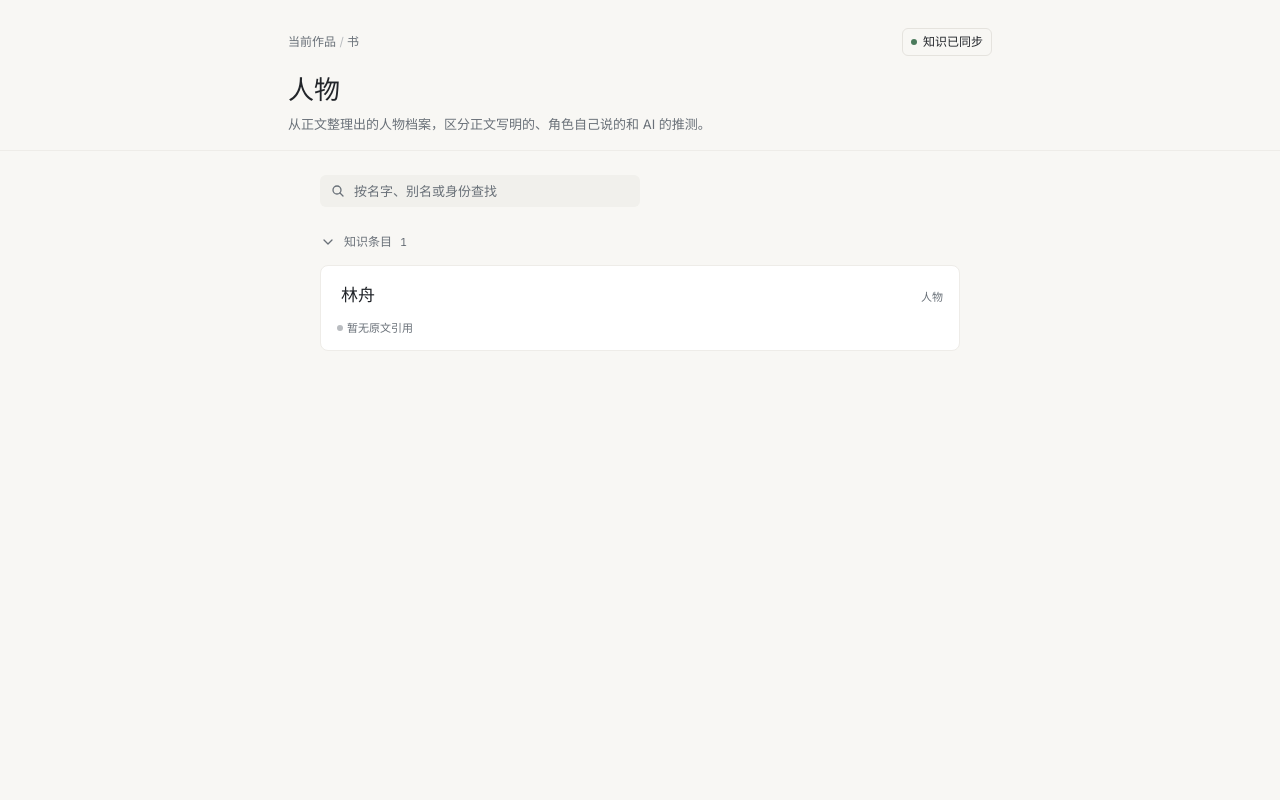
Test: private AI memory › retries a failed entity detail request
The image size is (1280, 800).
Expected: the heading "林舟" is shown, [341,283,375,309]
Click the button with aria-label "打开林舟详情": (358, 296) [329,280,387,312]
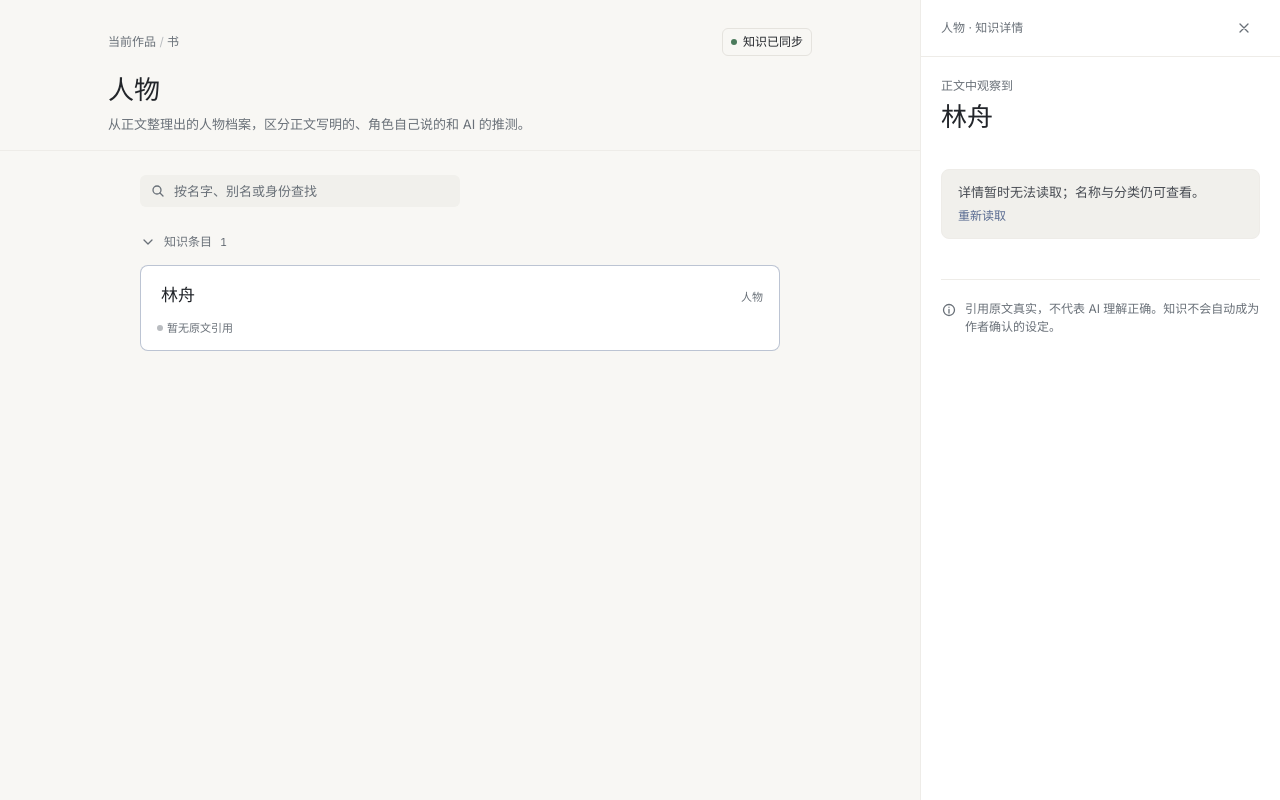
Now the text "详情暂时无法读取；名称与分类仍可查看。" is shown, box [958,182,1243,202]
Click the button "重新读取": (982, 216) [958,207,1006,225]
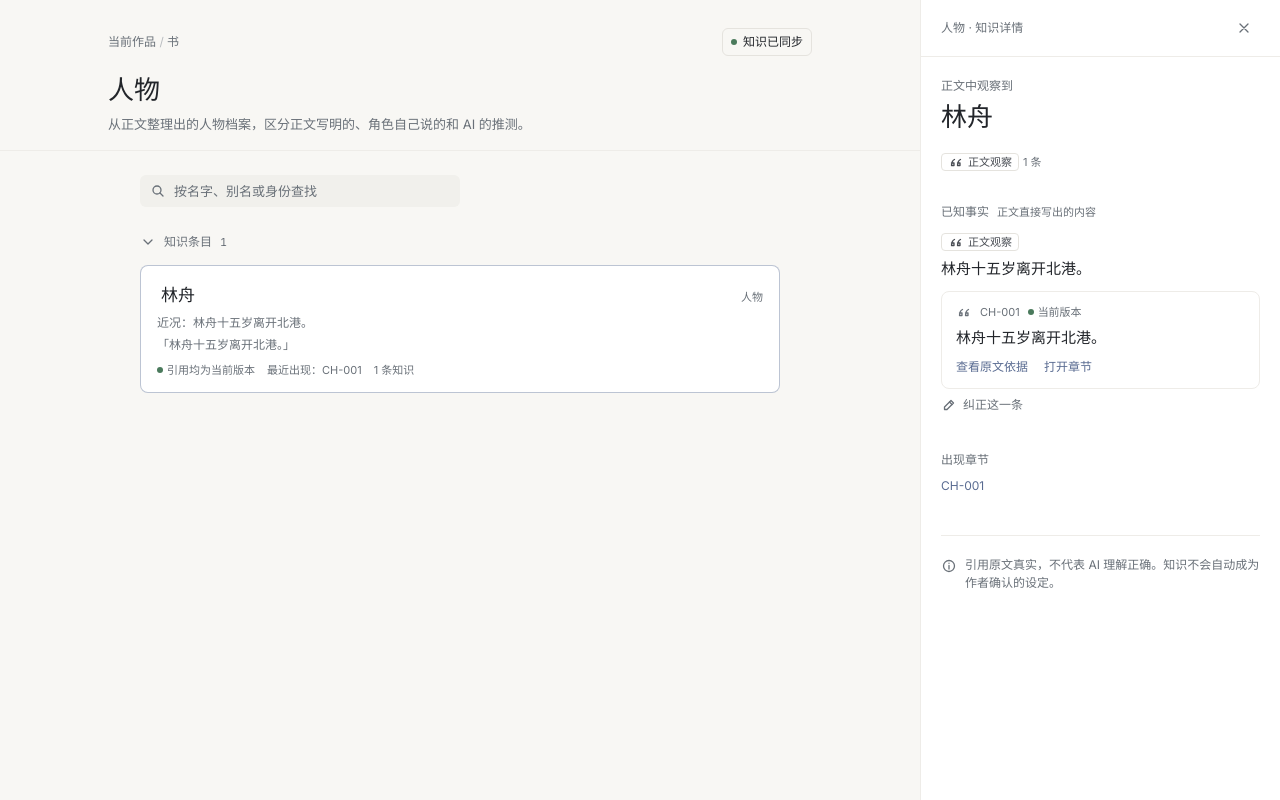
Now the text "「林舟十五岁离开北港。」" is shown, box [157,338,295,352]
